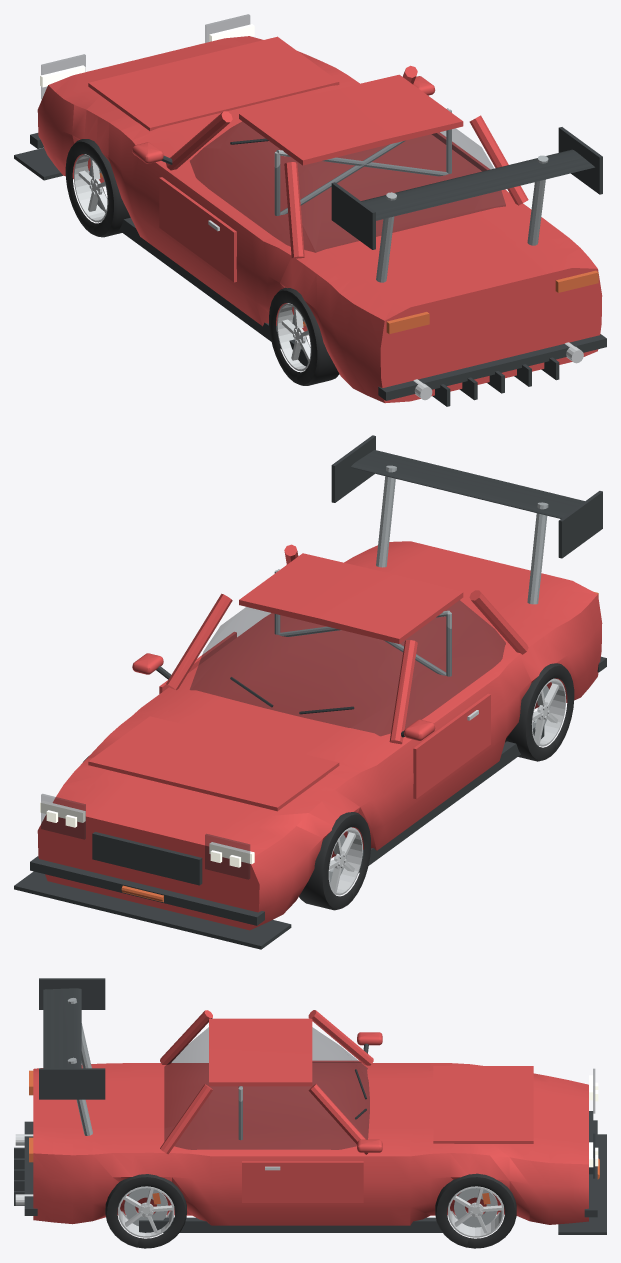
Rendered from gt4_coupe.glb.
3 views of the same model, one above another, from view 1: azimuth 30°, elevation 25°; view 2: azimuth 150°, elevation 25°; view 3: azimuth 270°, elevation 25° (orthographic). The views are drawn at different scales.
Visible parts, largest first — view 1: Body, Wheel_RL, Wheel_FL; view 2: Body, Wheel_FL, Wheel_RL; view 3: Body, Wheel_FR, Wheel_RR.
Part boxes in pixels (x1,y1,x2,y2): Body: [14, 14, 606, 406]; Wheel_RL: [269, 287, 339, 385]; Wheel_FL: [65, 139, 130, 237]; Body: [14, 435, 606, 949]; Wheel_FL: [299, 812, 370, 910]; Wheel_RL: [505, 663, 574, 761]; Body: [14, 978, 606, 1234]; Wheel_FR: [435, 1173, 516, 1248]; Wheel_RR: [105, 1174, 186, 1248].
Size of the model in its own units: 2.13 by 1.51 by 4.64.
